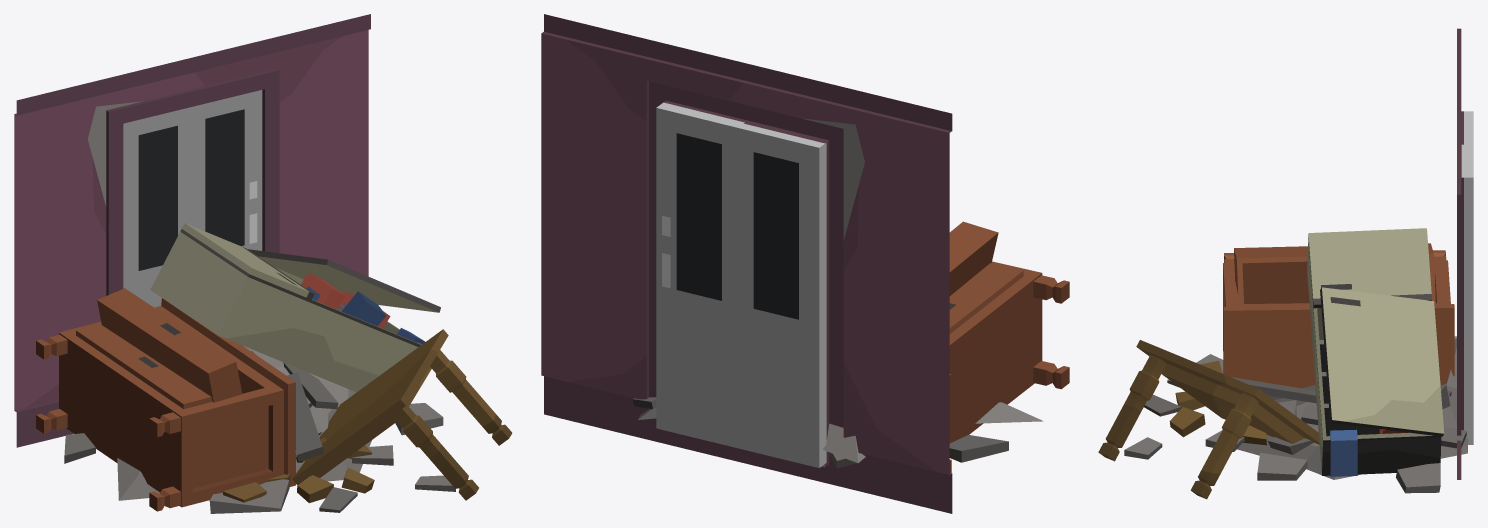
The model's file is AI_Env_Wall_Pink_BlockedDoor_01.fbx.
3 views of the same model, side by side, from view 1: azimuth 30°, elevation 25°; view 2: azimuth 150°, elevation 25°; view 3: azimuth 270°, elevation 25° (orthographic). The views are drawn at different scales.
Parts seen in each view (by area): view 1: AI_Env_Wall_Pink_BlockedDoor_01; view 2: AI_Env_Wall_Pink_BlockedDoor_01; view 3: AI_Env_Wall_Pink_BlockedDoor_01.
Part boxes in pixels (box(x1,y1,x2,y2)): AI_Env_Wall_Pink_BlockedDoor_01: box(14, 14, 512, 513); AI_Env_Wall_Pink_BlockedDoor_01: box(541, 14, 1069, 513); AI_Env_Wall_Pink_BlockedDoor_01: box(1098, 28, 1473, 499).
Size of the model in its own units: 5.12 by 4.69 by 4.77.
